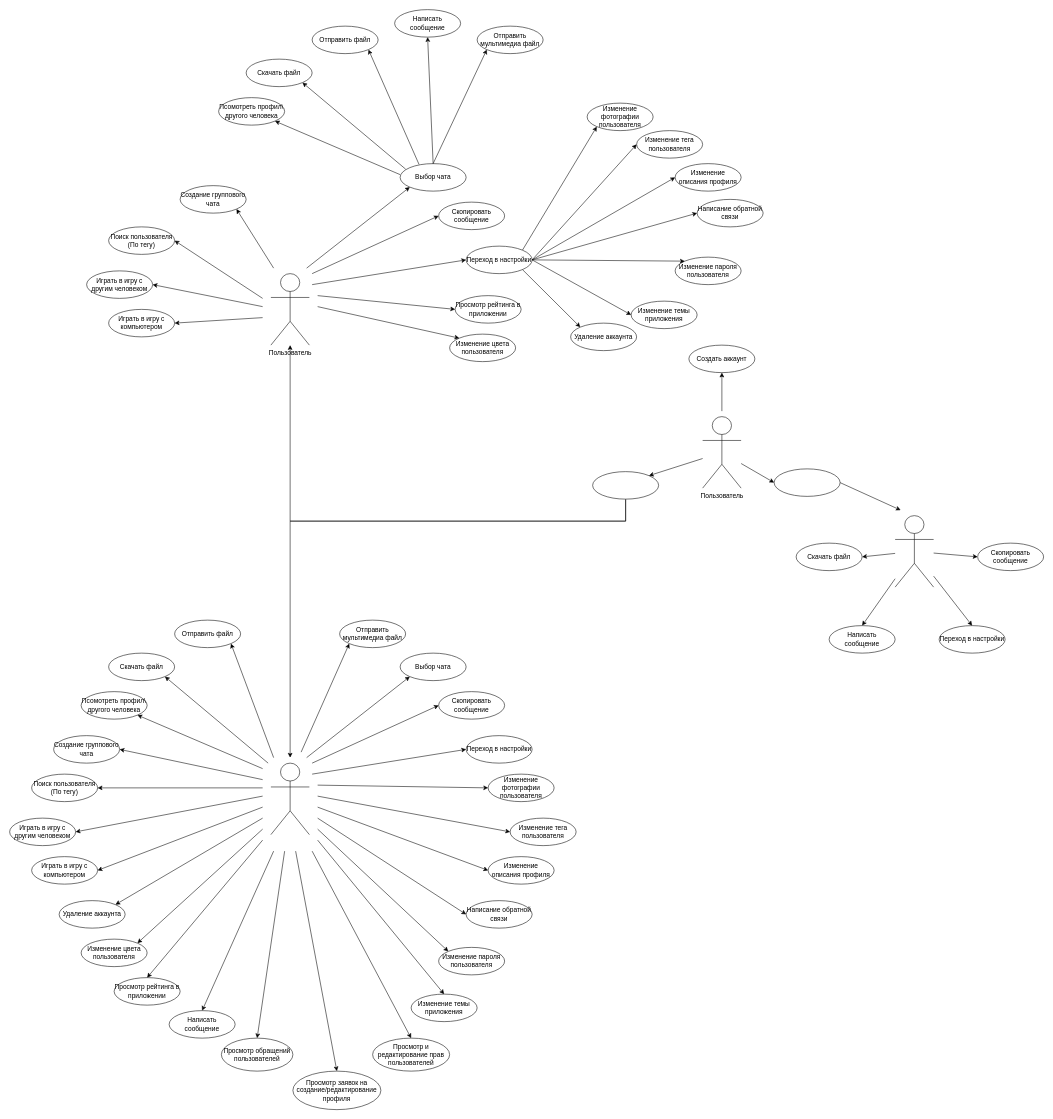
The diagram is 1053 pixels wide and 1119 high, and some of its shapes have lost their labels. The shapes that lost their labels are listed below. From the top down, each one's box as (x1, y1, x2, y2) in pixels, then its label:
(592, 471, 659, 499): Аутентификация
(774, 468, 840, 496): Войти как гость
(895, 515, 934, 587): Гость
(270, 763, 309, 835): Администратор
